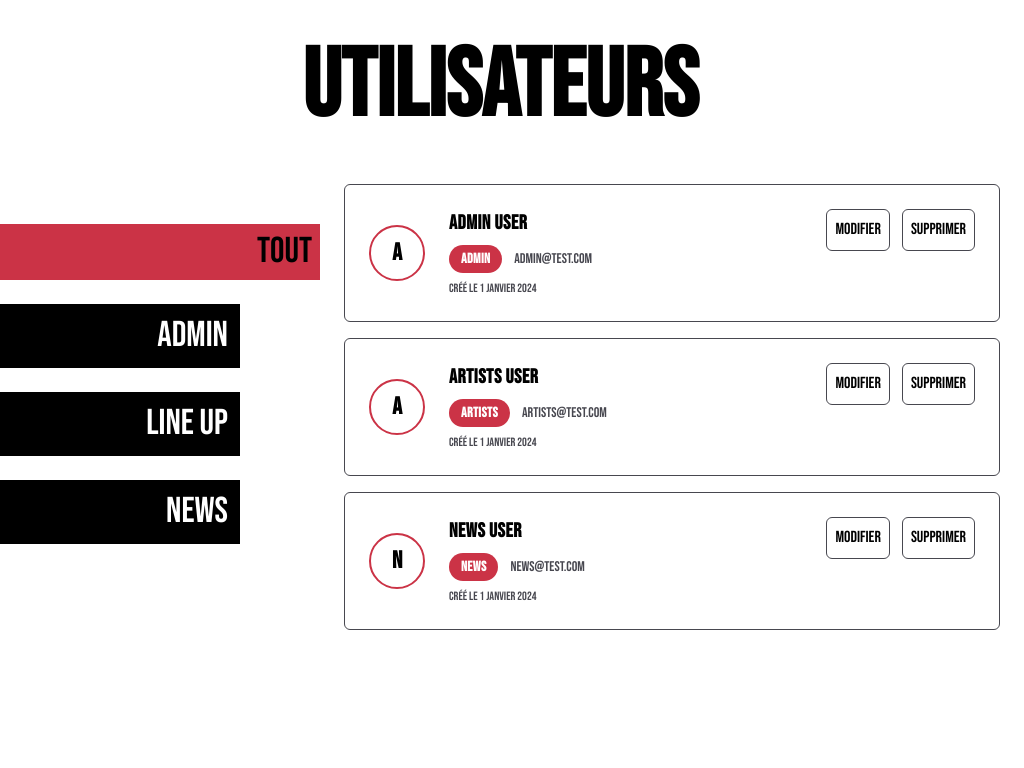
Scenario: UsersPage › filtre les utilisateurs par role apres clic sur un filtre
Expected: the text "Admin User" is shown, 449,211 -> 527,235
Expected: the text "Artists User" is shown, 449,365 -> 538,389
# clic sur le filtre "Admin" dans la navigation
Click the button "Admin": (120, 336) 12,316 -> 228,356
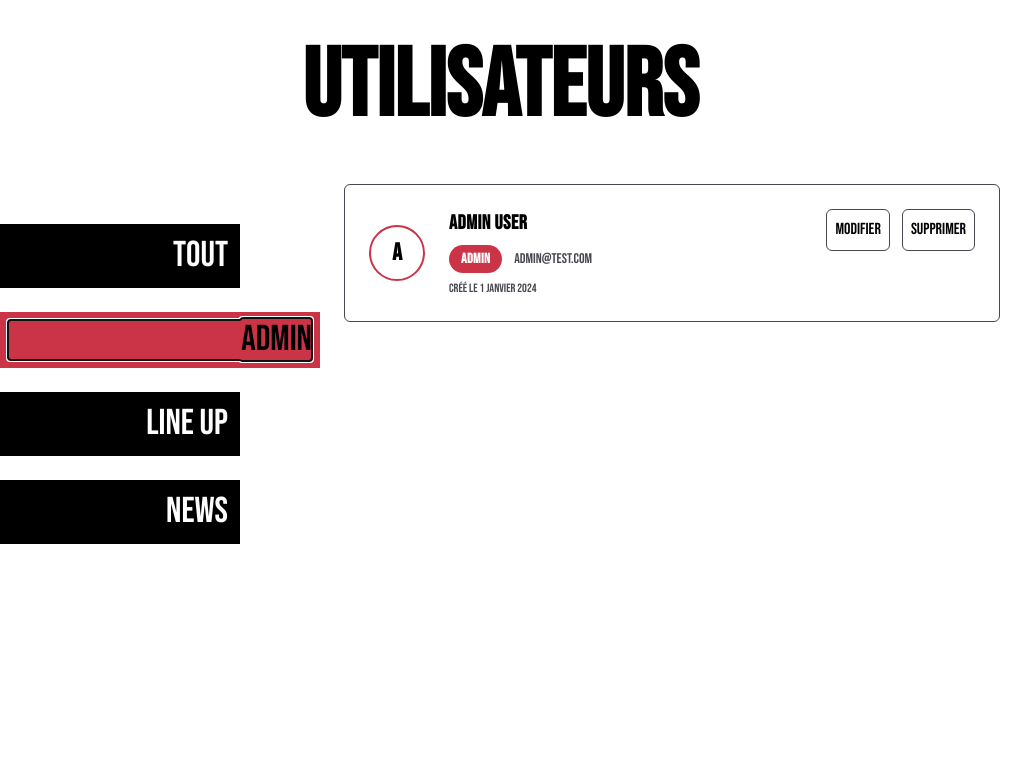
Expected: the text "Admin User" is shown, 449,211 -> 527,235
Expected: the text "Artists User" is gone
Expected: the text "News User" is gone
